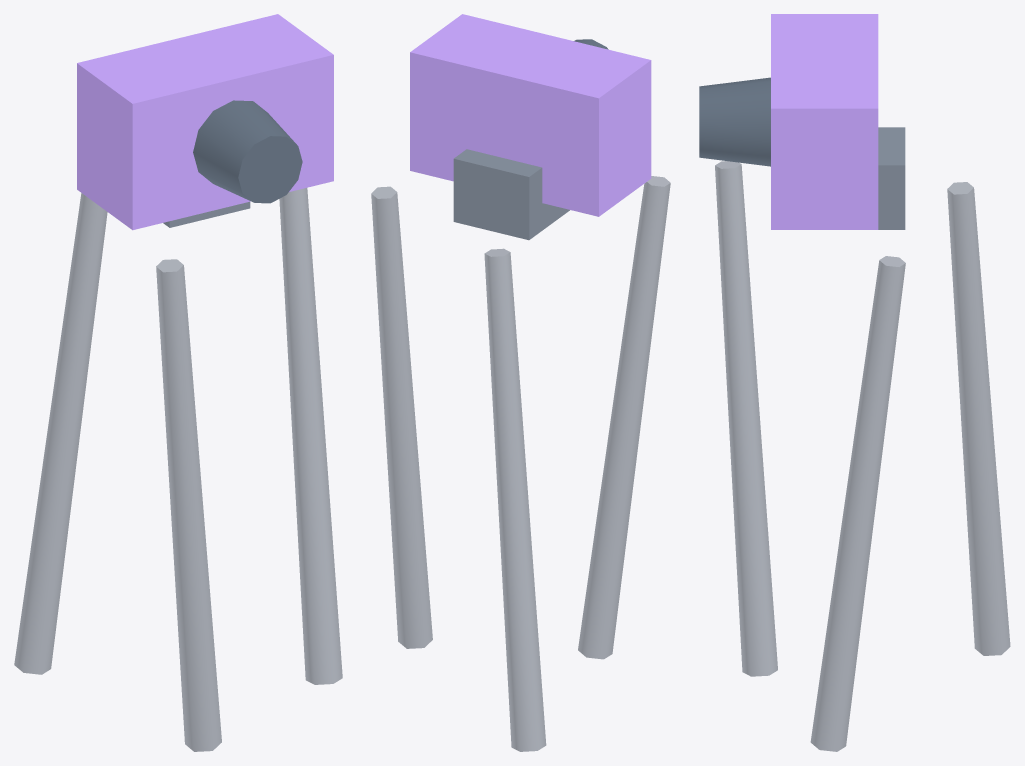
File: eo_ir_camera.glb
The picture shows the model from 3 angles, left to right: view 1: azimuth 30°, elevation 25°; view 2: azimuth 150°, elevation 25°; view 3: azimuth 270°, elevation 25°; orthographic projection. The views are drawn at different scales.
Bounding box in the file's own units: 0.2923 × 0.7752 × 0.3478.
